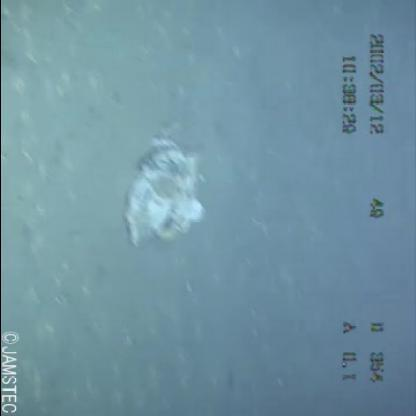Rác: (108, 107, 219, 259)
